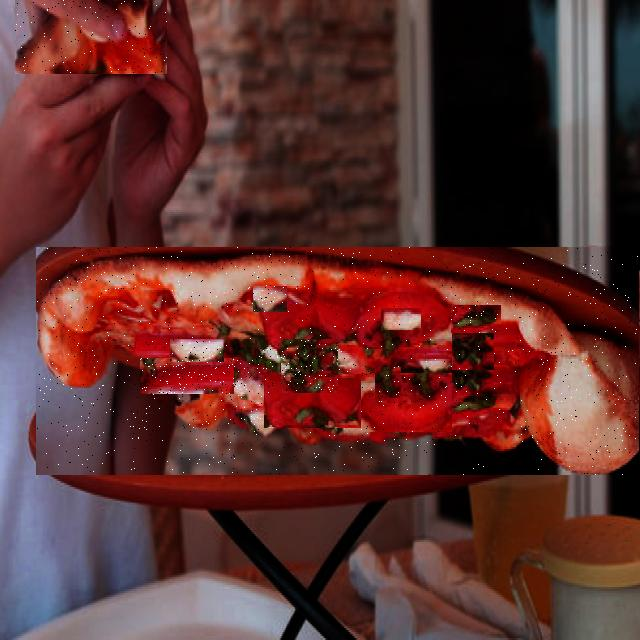Basil: (281, 339, 338, 393), (320, 284, 368, 324), (452, 326, 494, 370), (230, 353, 274, 393), (451, 305, 501, 333), (403, 290, 446, 315), (375, 368, 401, 400)
Cheese: (234, 311, 272, 346), (170, 339, 224, 362), (253, 286, 287, 312)
Pizza: (37, 247, 639, 475), (16, 0, 167, 74)
Tomato: (361, 373, 452, 432), (264, 374, 362, 428), (140, 358, 234, 394), (381, 308, 421, 330)
